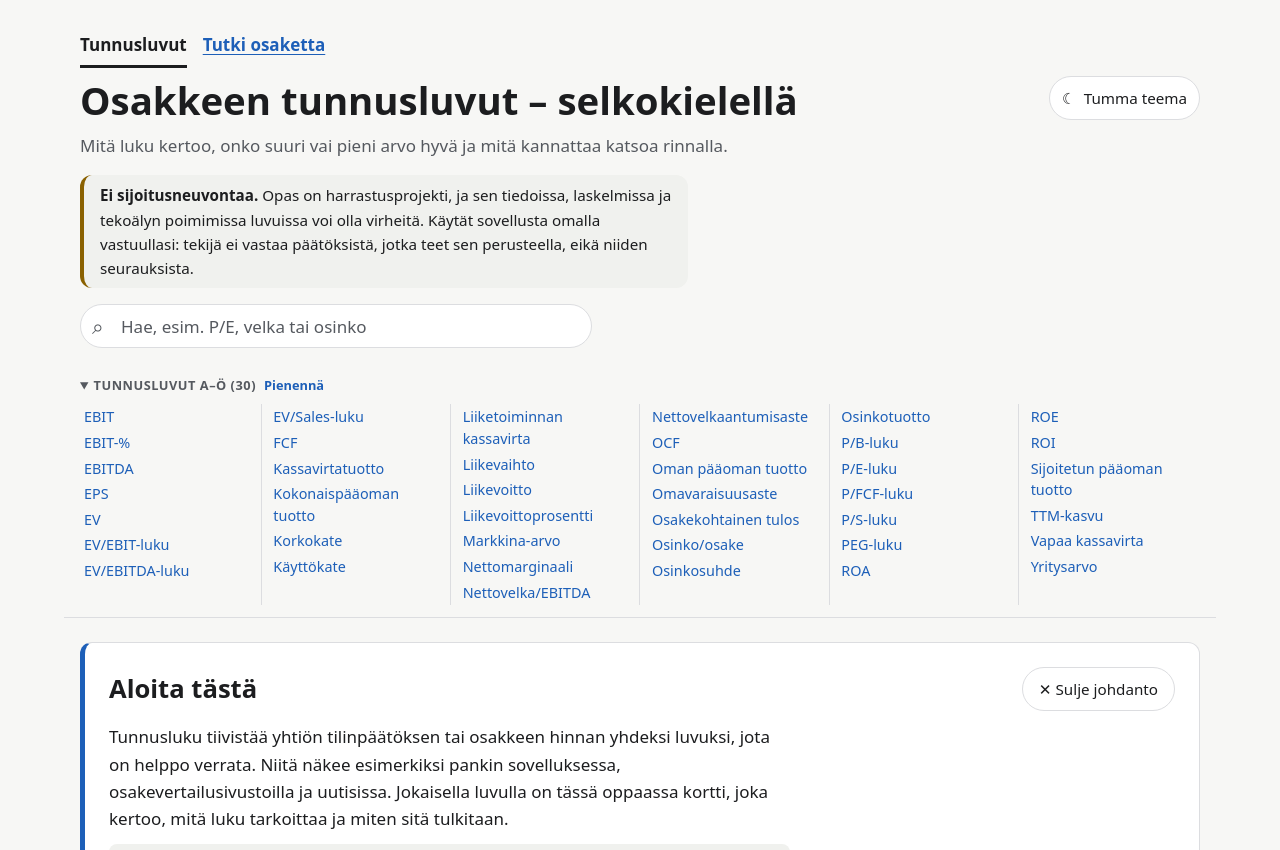
Haku ja suodatus › johdanto väistyy haun ajaksi, mutta sitä ei merkitä suljetuksi
The width and height of the screenshot is (1280, 850).
In the search field: (336, 326) [80,304,592,348], type "velaton"
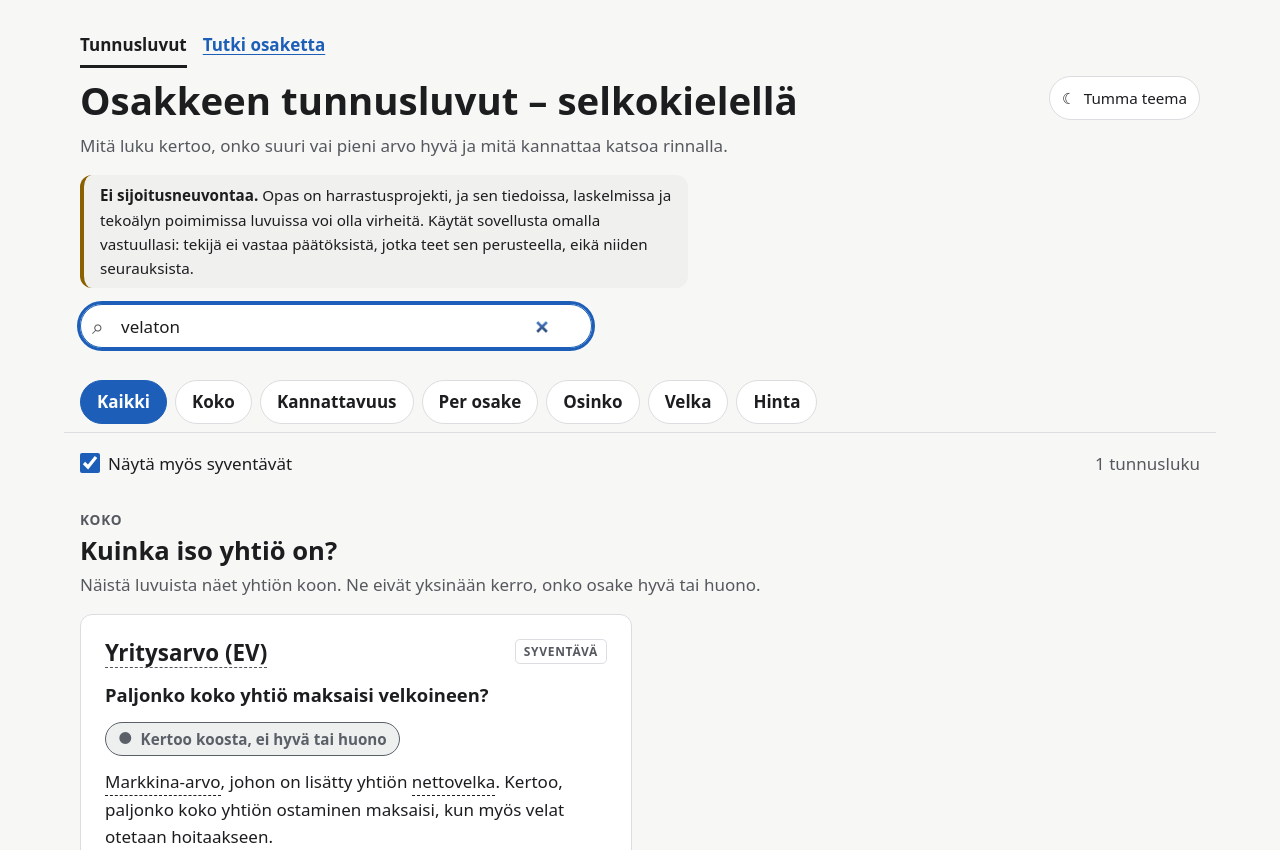
Expected: the heading "Aloita tästä" is gone
Clear the search field: (336, 326) [80,304,592,348]
(page scrolled)
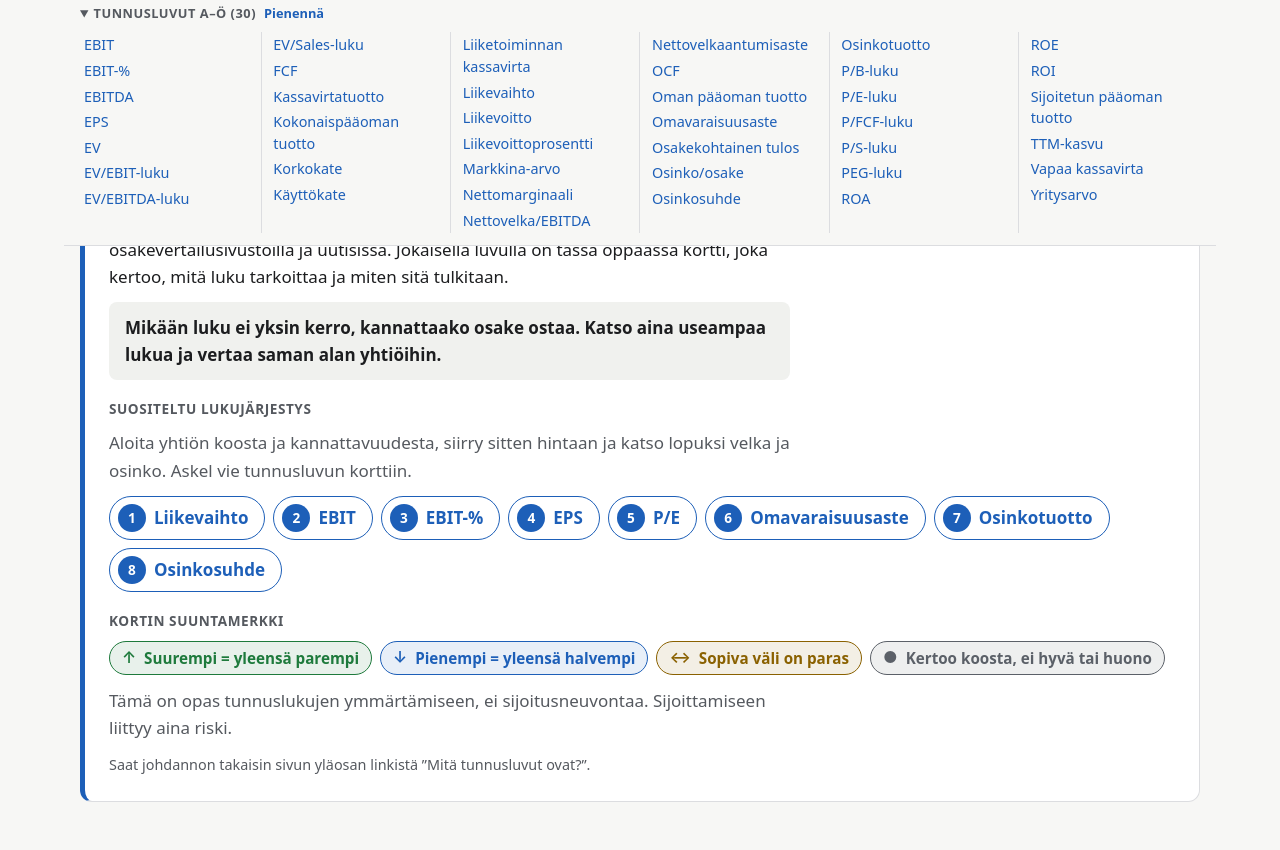
Expected: the element "Aloita tästä" is shown
